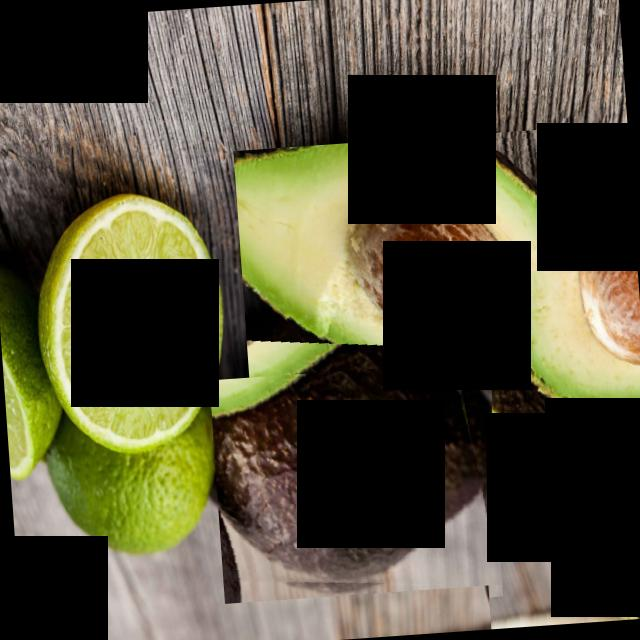avocado: (232, 125, 618, 435), (209, 361, 501, 604), (465, 255, 640, 629)
